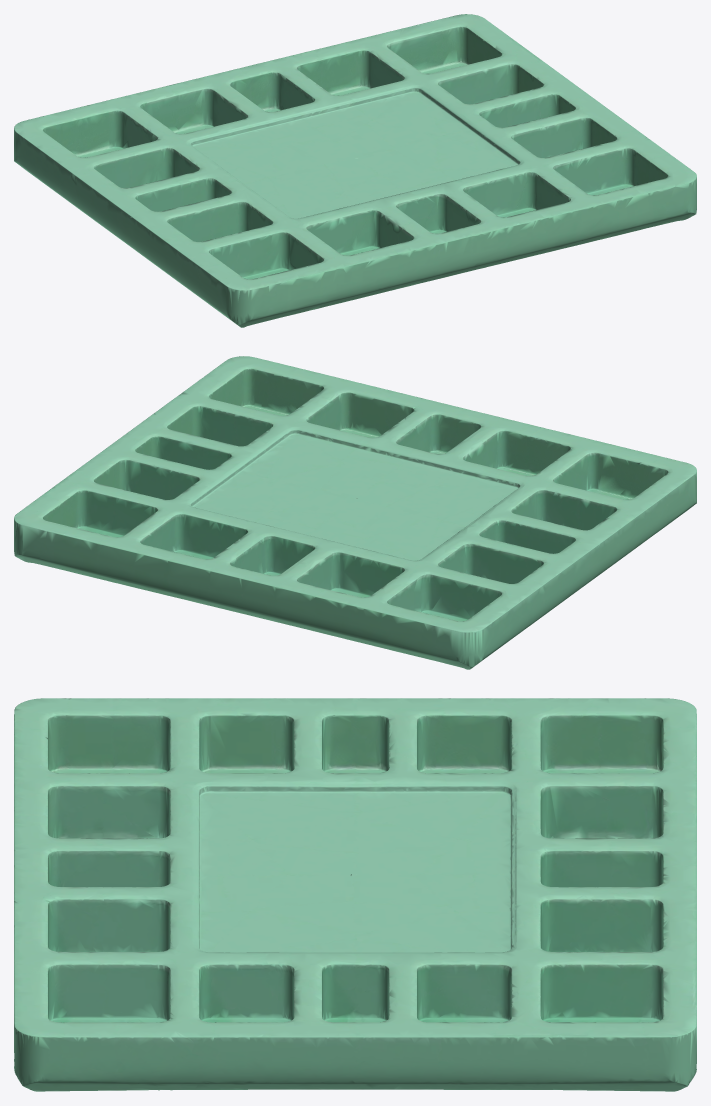
Rendered from mintOrganizer5M.glb.
3 renders of one model, top to bottom at view 1: azimuth 30°, elevation 25°; view 2: azimuth 150°, elevation 25°; view 3: azimuth 270°, elevation 25°, orthographic. The views are drawn at different scales.
Visible parts, largest first — view 1: Mesh_0; view 2: Mesh_0; view 3: Mesh_0.
Part boxes in pixels (x1=…): Mesh_0: x1=14, y1=14, x2=696, y2=327; Mesh_0: x1=14, y1=356, x2=696, y2=669; Mesh_0: x1=14, y1=698, x2=696, y2=1091.
Size of the model in its own units: 55.54 by 5 by 47.3.
1 material, 1 textured.
